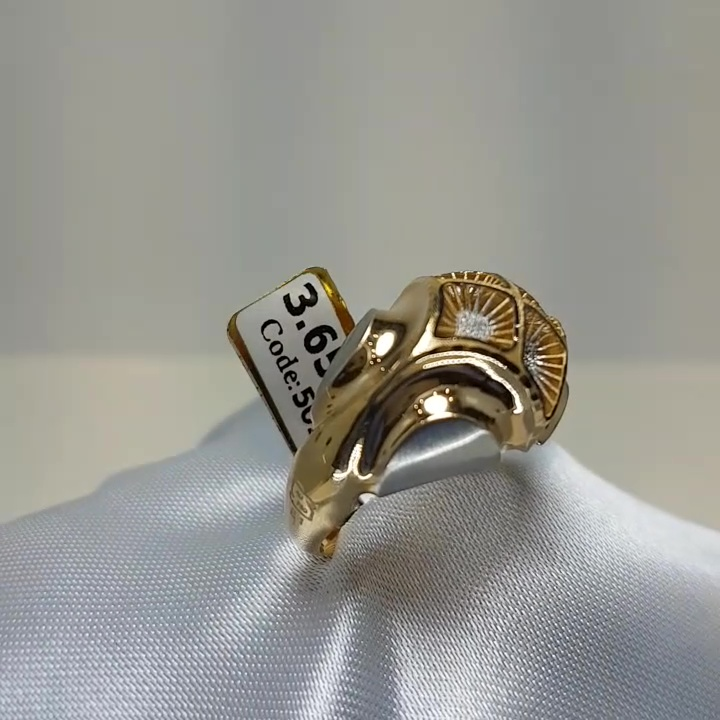Ring 2: (243, 237, 595, 573)
